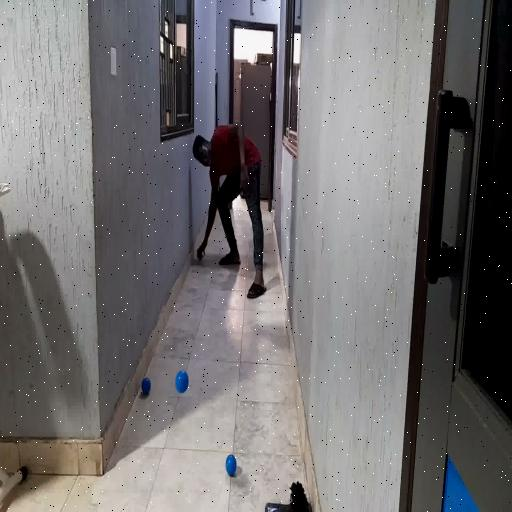plastic-ball: (174, 368, 189, 394)
